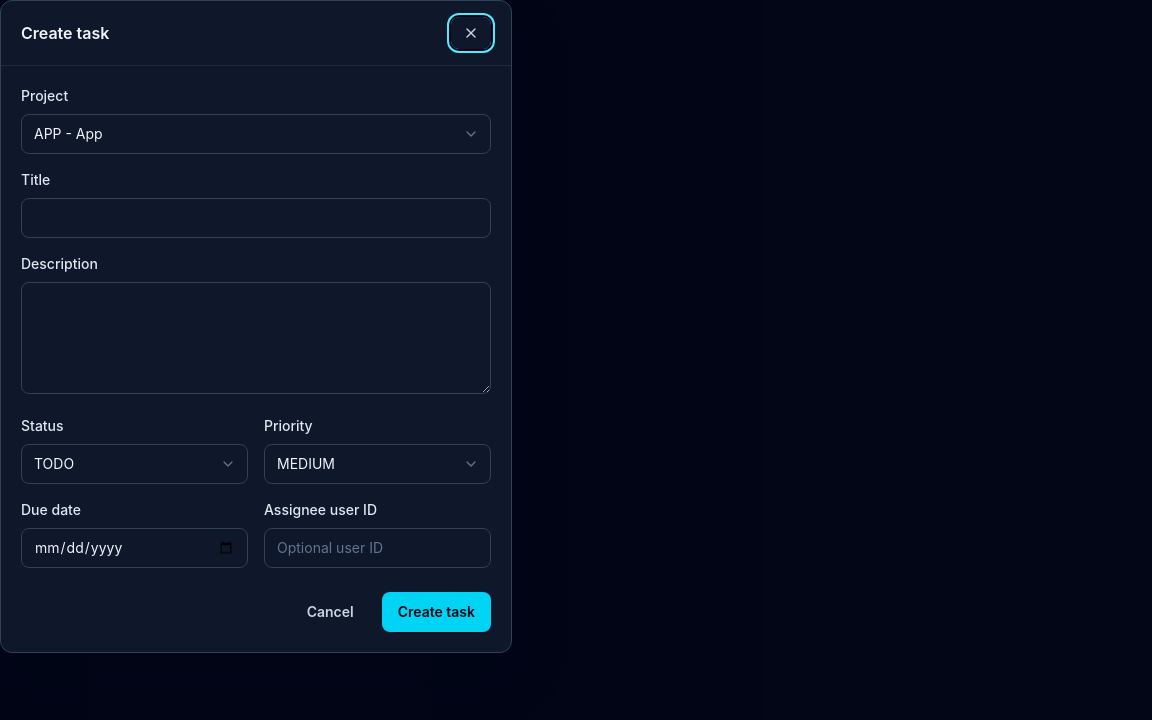
Test: TaskFormModal › shows validation errors without submitting
This screenshot has width=1152, height=720.
Click the button "Create task" at (436, 612), box [382,592,491,632]
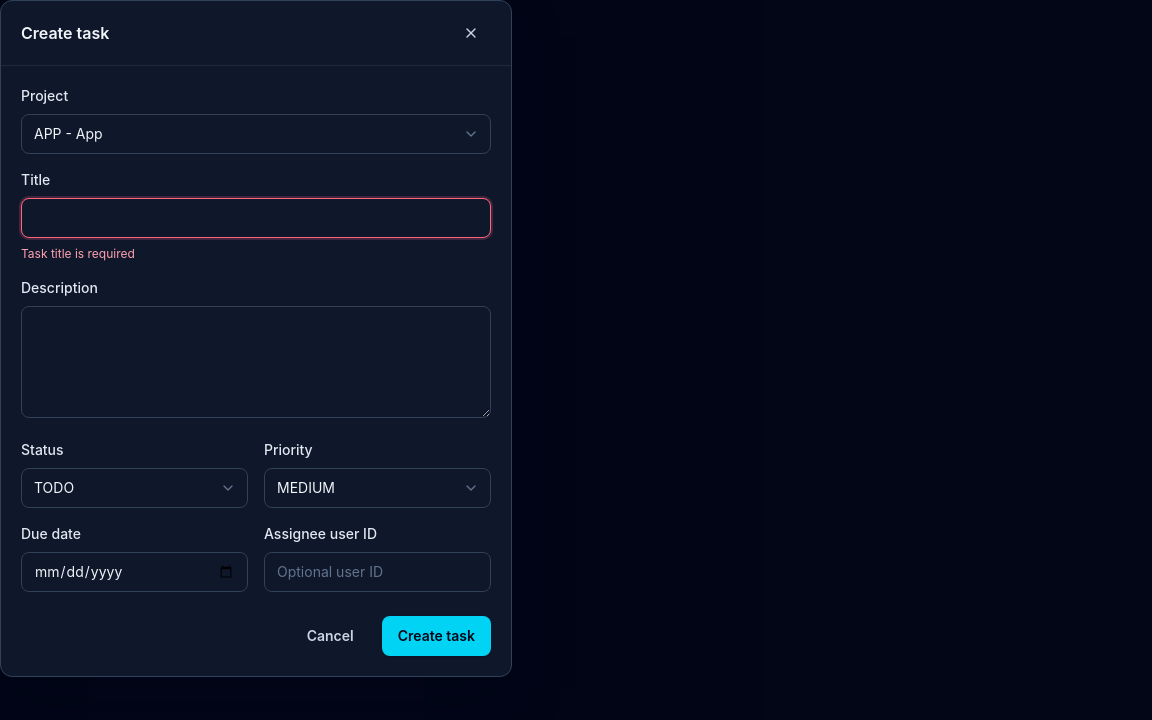
Check: the text "Task title is required" is shown, box [21,246,135,261]
